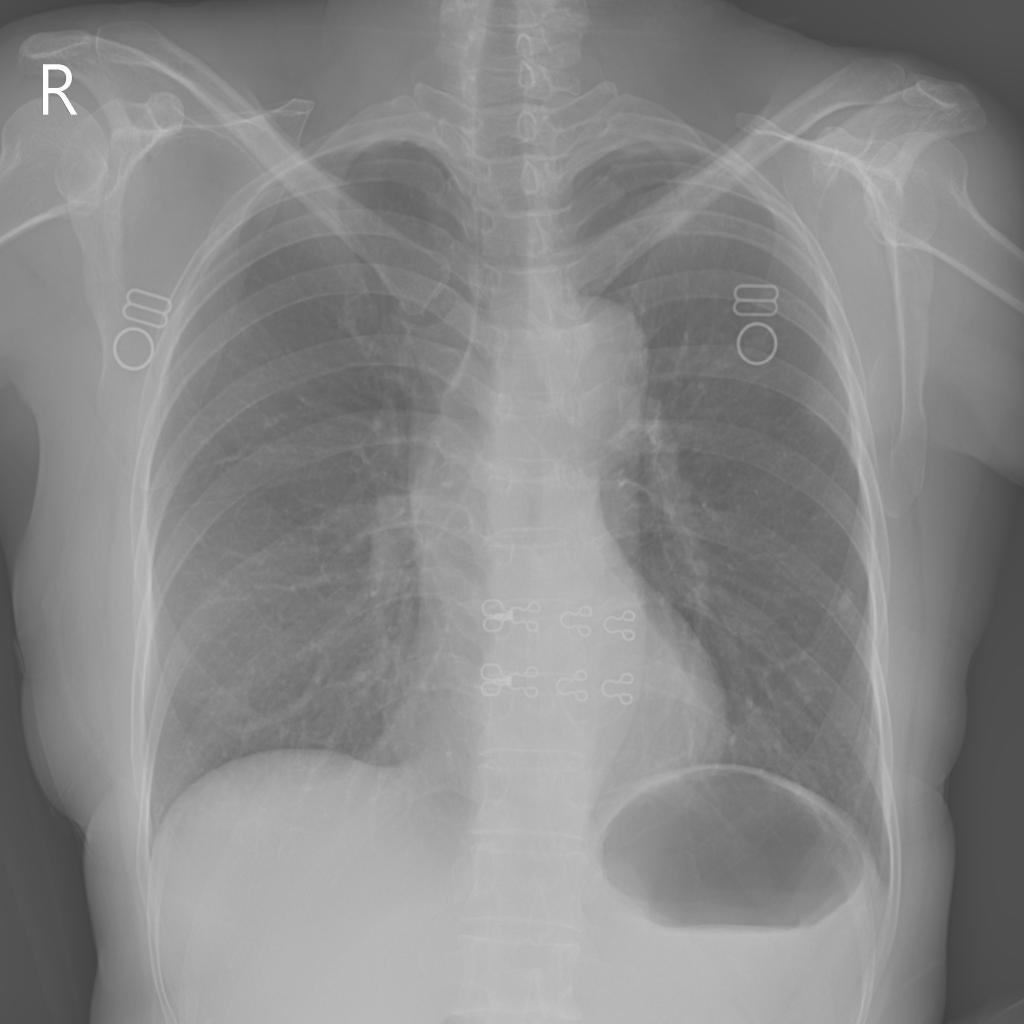Nodule: (838, 590, 857, 622)
